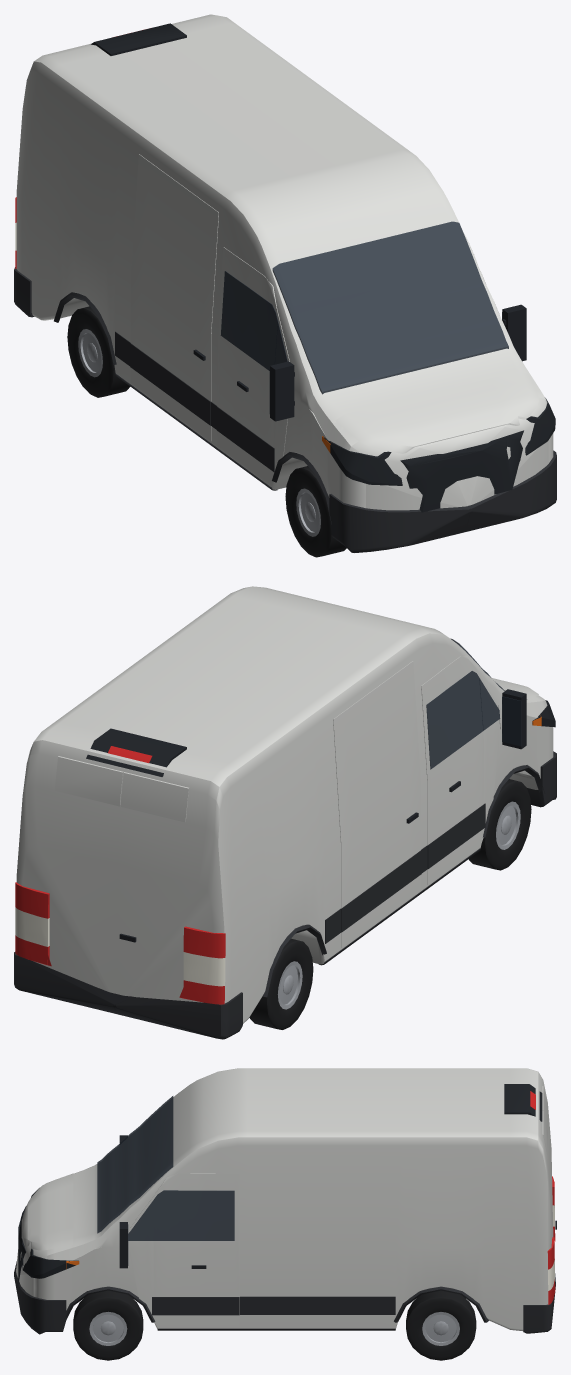
Rendered from camper-sprinter_144_high.glb.
3 views of the same model, one above another, from view 1: azimuth 30°, elevation 25°; view 2: azimuth 150°, elevation 25°; view 3: azimuth 270°, elevation 25° (orthographic). The views are drawn at different scales.
Parts seen in each view (by area): view 1: traveler_camper_parked, sliding_door, front_door_right, hood, rear_right_wheel, front_right_wheel, front_door_left; view 2: traveler_camper_parked, sliding_door, front_door_right, rear_right_wheel, front_right_wheel, rear_door_right, rear_door_left; view 3: traveler_camper_parked, front_door_left, front_left_wheel, rear_left_wheel, hood.
Boxes of the visible parts, <box> form: traveler_camper_parked: <box>14,14,556,552</box>; sliding_door: <box>130,154,218,440</box>; front_door_right: <box>216,247,294,484</box>; hood: <box>335,371,538,453</box>; rear_right_wheel: <box>67,306,130,397</box>; front_right_wheel: <box>285,466,346,557</box>; front_door_left: <box>464,234,526,361</box>; traveler_camper_parked: <box>14,586,556,1039</box>; sliding_door: <box>333,661,421,947</box>; front_door_right: <box>421,655,526,884</box>; rear_right_wheel: <box>249,938,313,1029</box>; front_right_wheel: <box>468,779,531,870</box>; rear_door_right: <box>119,772,188,942</box>; rear_door_left: <box>55,756,123,806</box>; traveler_camper_parked: <box>14,1068,555,1334</box>; front_door_left: <box>119,1173,239,1326</box>; front_left_wheel: <box>73,1290,143,1360</box>; rear_left_wheel: <box>406,1290,476,1360</box>; hood: <box>27,1173,73,1250</box>.
Size of the model in its own units: 2.44 by 2.74 by 5.98.
